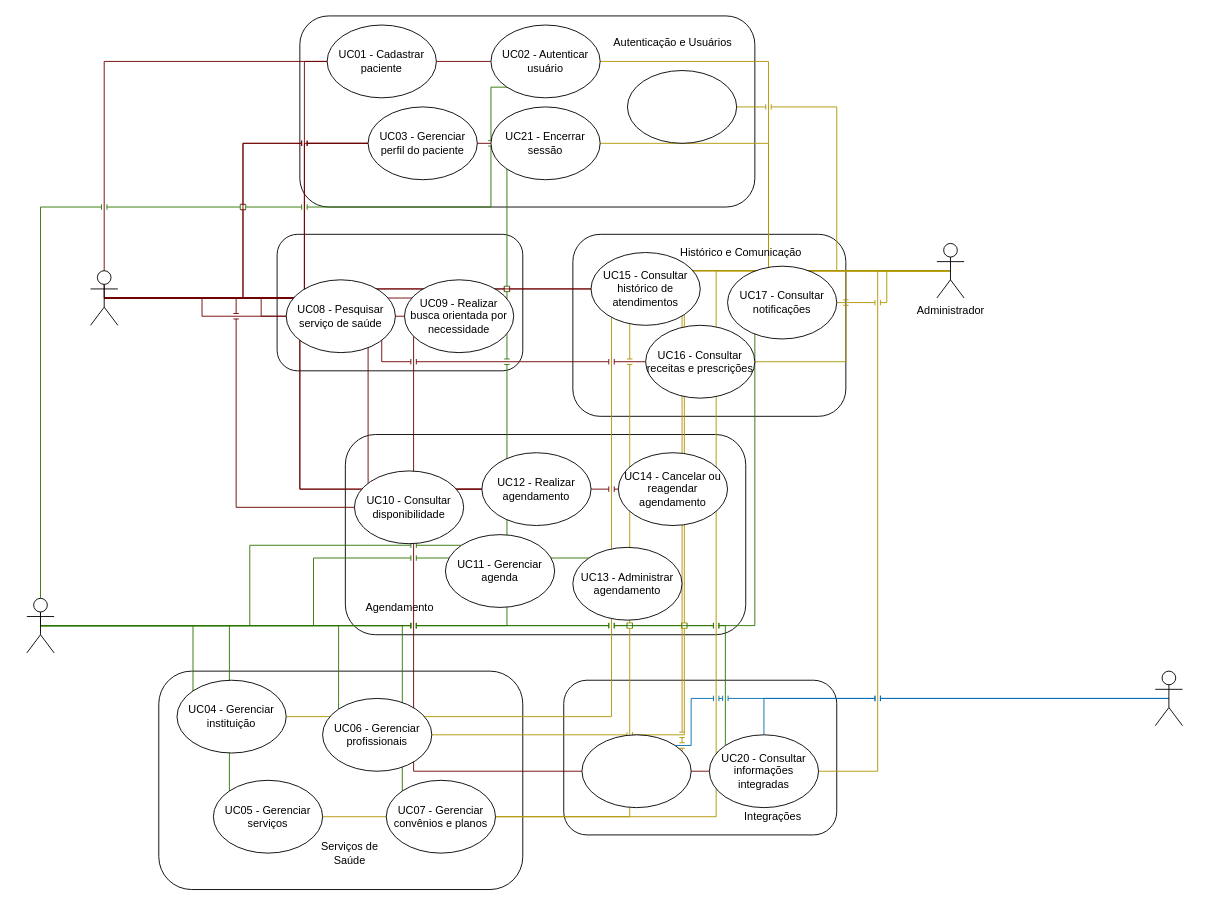
Image size: 1207x905. Some labels were removed from this diagram. The centre of each missing label's shape, as x and y in pixels:
"Busca e Descoberta" goes at pixel 372 261.
"Instituição" goes at pixel 40 625.
"Paciente" goes at pixel 104 297.
"Sistemas Parceiro" goes at pixel 1168 698.
"UC18 - Administrar usuários e permissões" goes at pixel 682 106.
"UC19 - Gerenciar integrações" goes at pixel 636 771.
